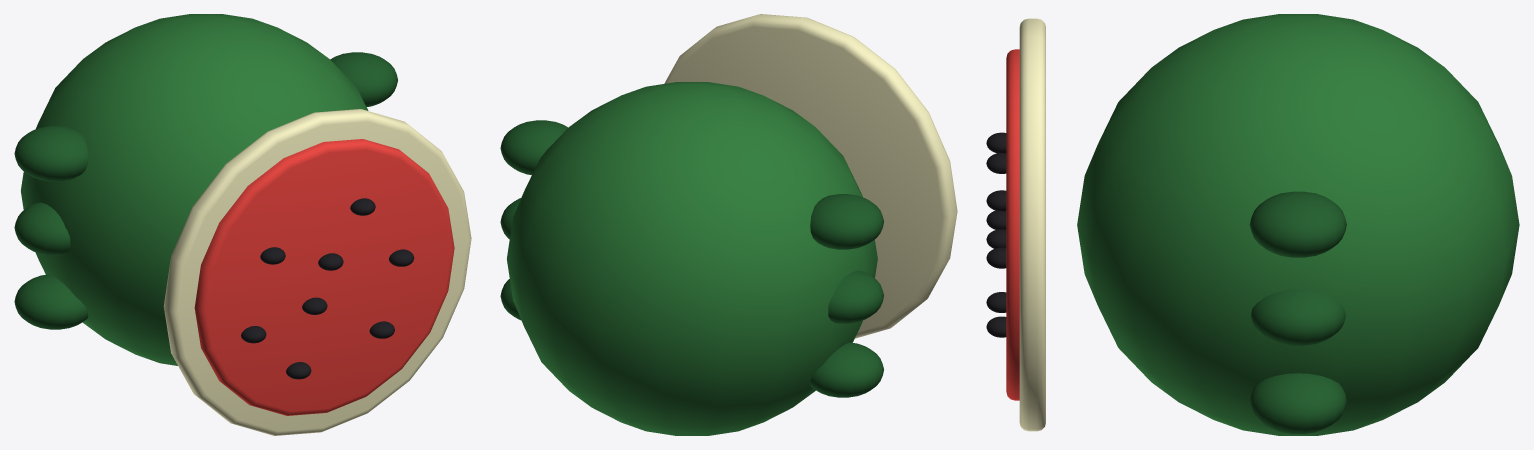
Rendered from melon.glb.
3 renders of one model, left to right at view 1: azimuth 30°, elevation 25°; view 2: azimuth 150°, elevation 25°; view 3: azimuth 270°, elevation 25°, orthographic. The views are drawn at different scales.
Visible parts, largest first — view 1: melon; view 2: melon; view 3: melon.
Part boxes in pixels (left/top/right/bottom): melon: left=14, top=14, right=471, bottom=435; melon: left=500, top=14, right=957, bottom=435; melon: left=986, top=14, right=1519, bottom=435.
Bounding box in the file's own units: 1.16 × 0.95 × 1.2.
